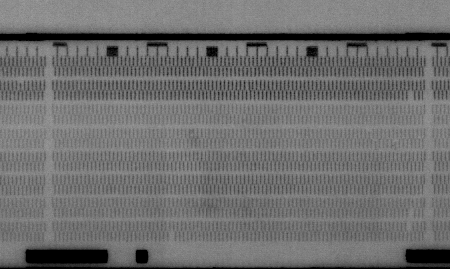Broken hole: (406, 209, 416, 231), (405, 90, 418, 104), (166, 230, 177, 242)
Oblique printing: (14, 79, 28, 92), (390, 139, 403, 153)
